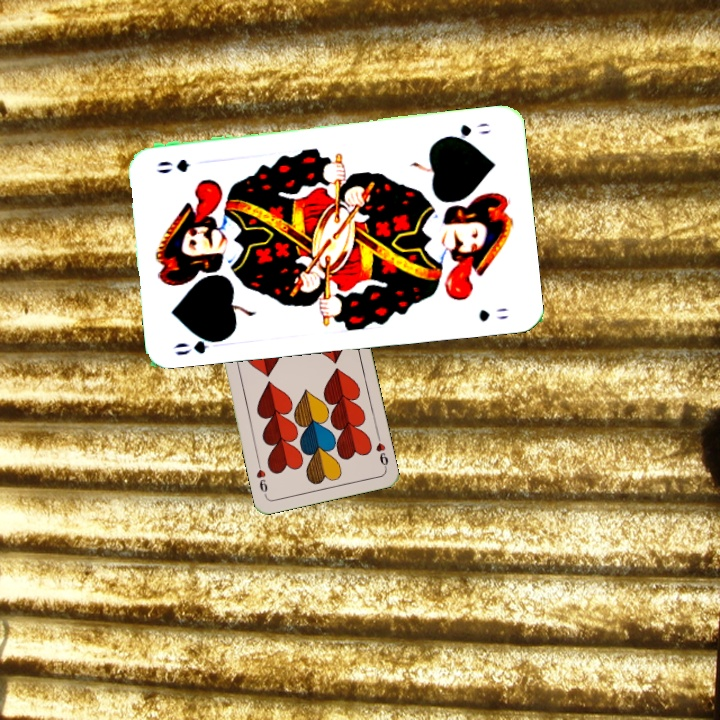GO: (170, 330, 228, 358), (440, 118, 494, 143)
H9: (372, 431, 391, 472)
